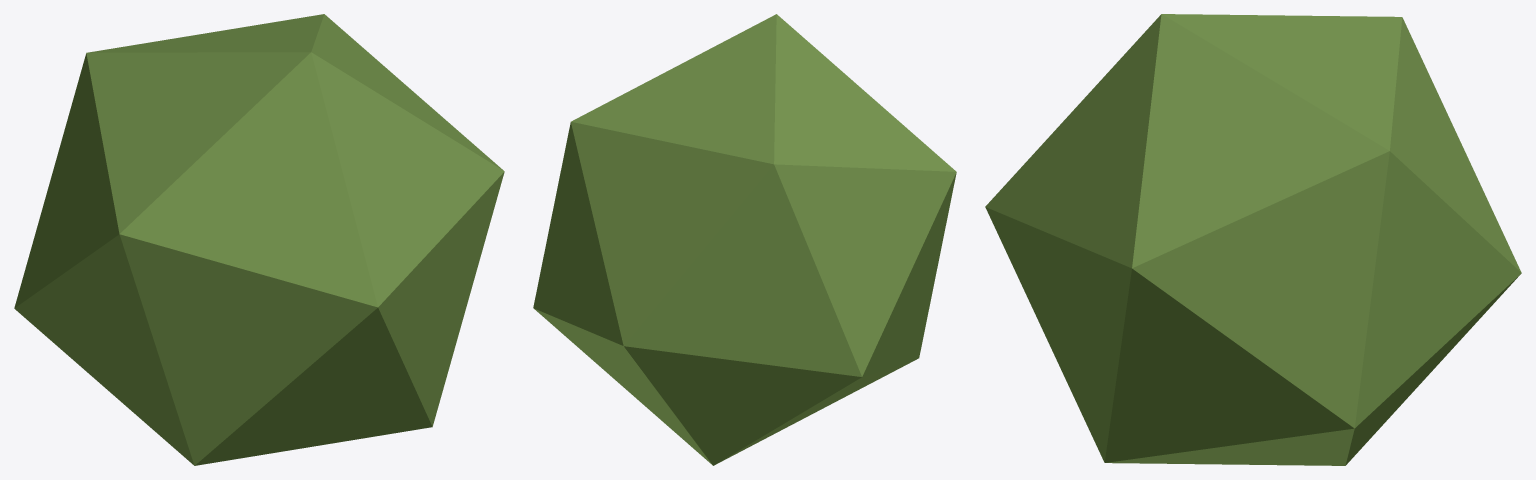
Rendered from canopy-7.glb.
3 views of the same model, side by side, from view 1: azimuth 30°, elevation 25°; view 2: azimuth 150°, elevation 25°; view 3: azimuth 270°, elevation 25° (orthographic). The views are drawn at different scales.
Visible parts, largest first — view 1: Canopy 7; view 2: Canopy 7; view 3: Canopy 7.
Boxes of the visible parts, x1=… form: Canopy 7: x1=14, y1=14, x2=504, y2=465; Canopy 7: x1=533, y1=14, x2=956, y2=465; Canopy 7: x1=985, y1=14, x2=1521, y2=465.
Size of the model in its own units: 19.05 by 21.09 by 22.28.
